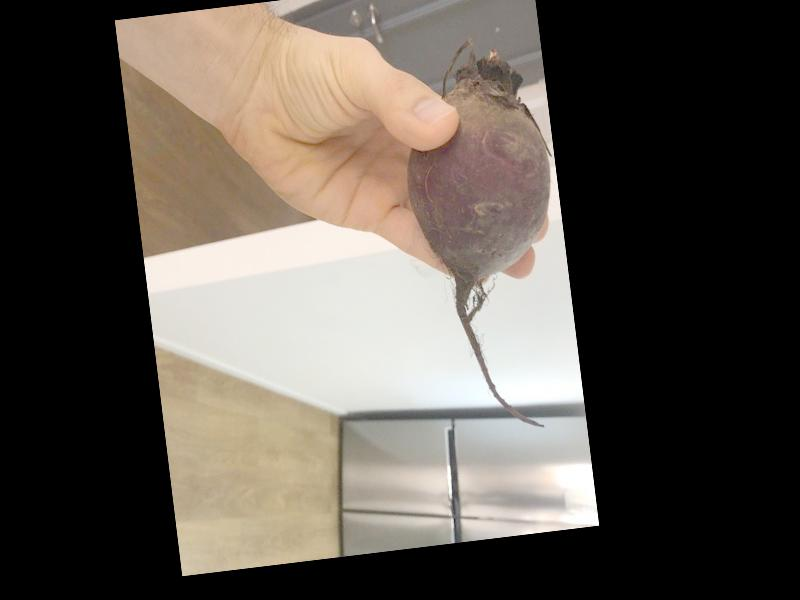Beet: (394, 32, 583, 438)
